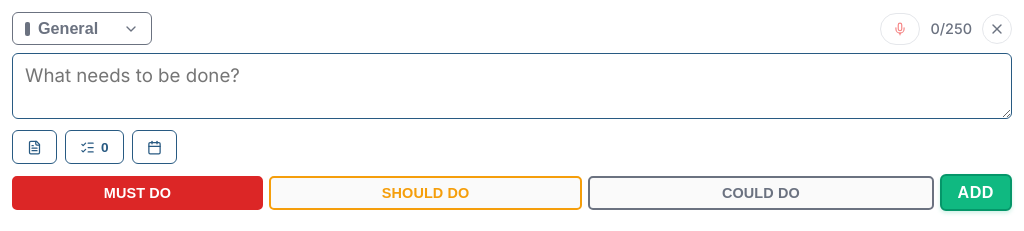
Test: renders Talk button and activates listening indicator on click
Click the button named "talk" at [900, 28], box [880, 12, 920, 44]
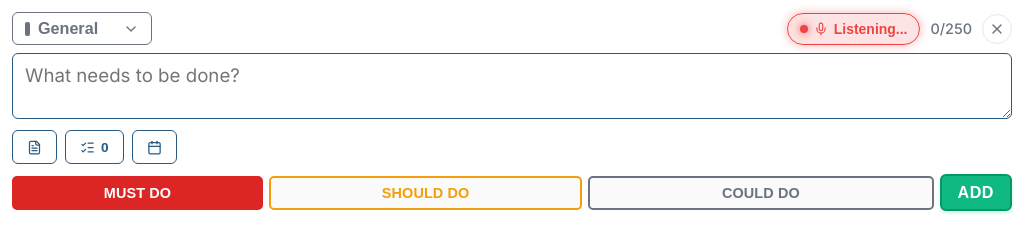
Expected: the text "Listening..." is shown, [834, 20, 907, 36]
